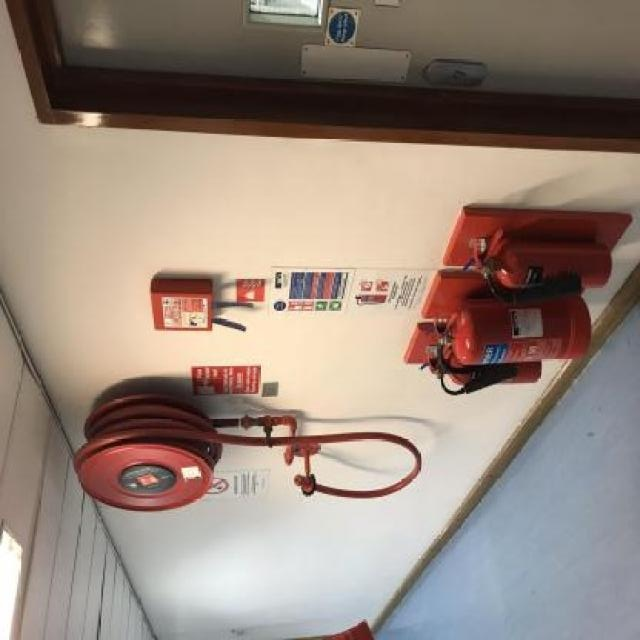fire extinguisher: (433, 295, 592, 376), (472, 226, 612, 305), (426, 343, 542, 395)
